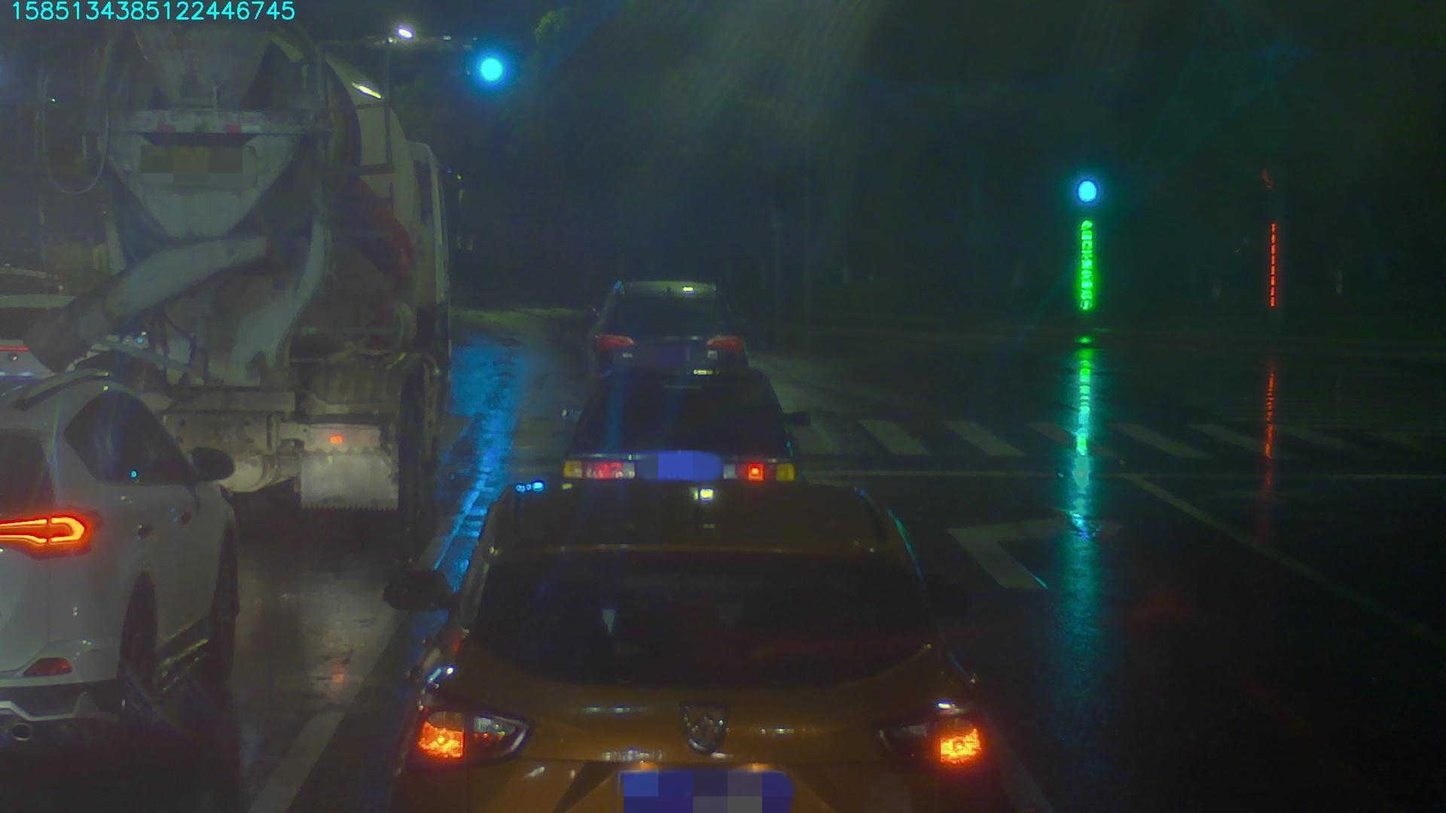green: (465, 47, 516, 94)
